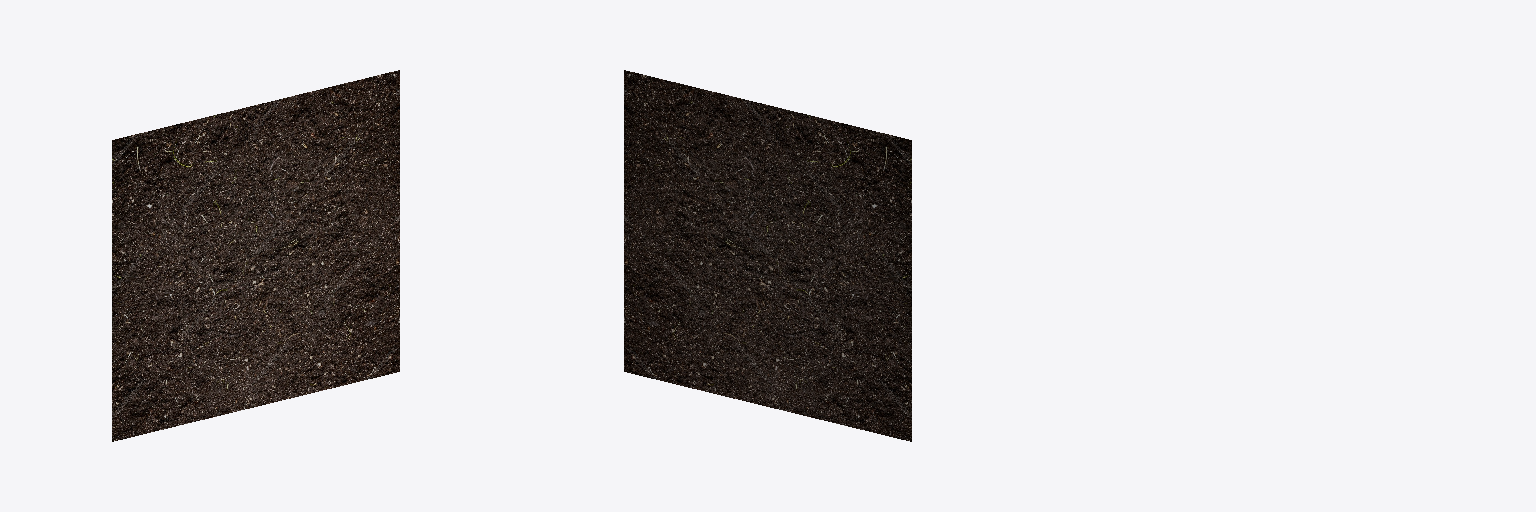
3 renders of one model, left to right at view 1: azimuth 30°, elevation 25°; view 2: azimuth 150°, elevation 25°; view 3: azimuth 270°, elevation 25°, orthographic.
Size of the model in its own units: 2 by 2 by 0.
1 materials, 1 textured.